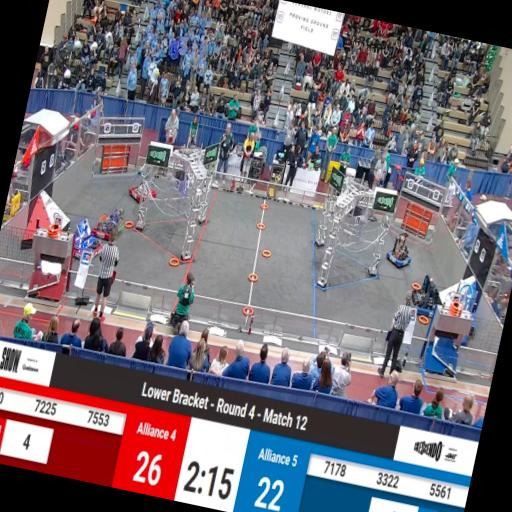robot: (400, 274, 446, 328), (70, 213, 116, 266), (91, 206, 127, 246), (384, 230, 415, 270), (126, 170, 160, 206)
